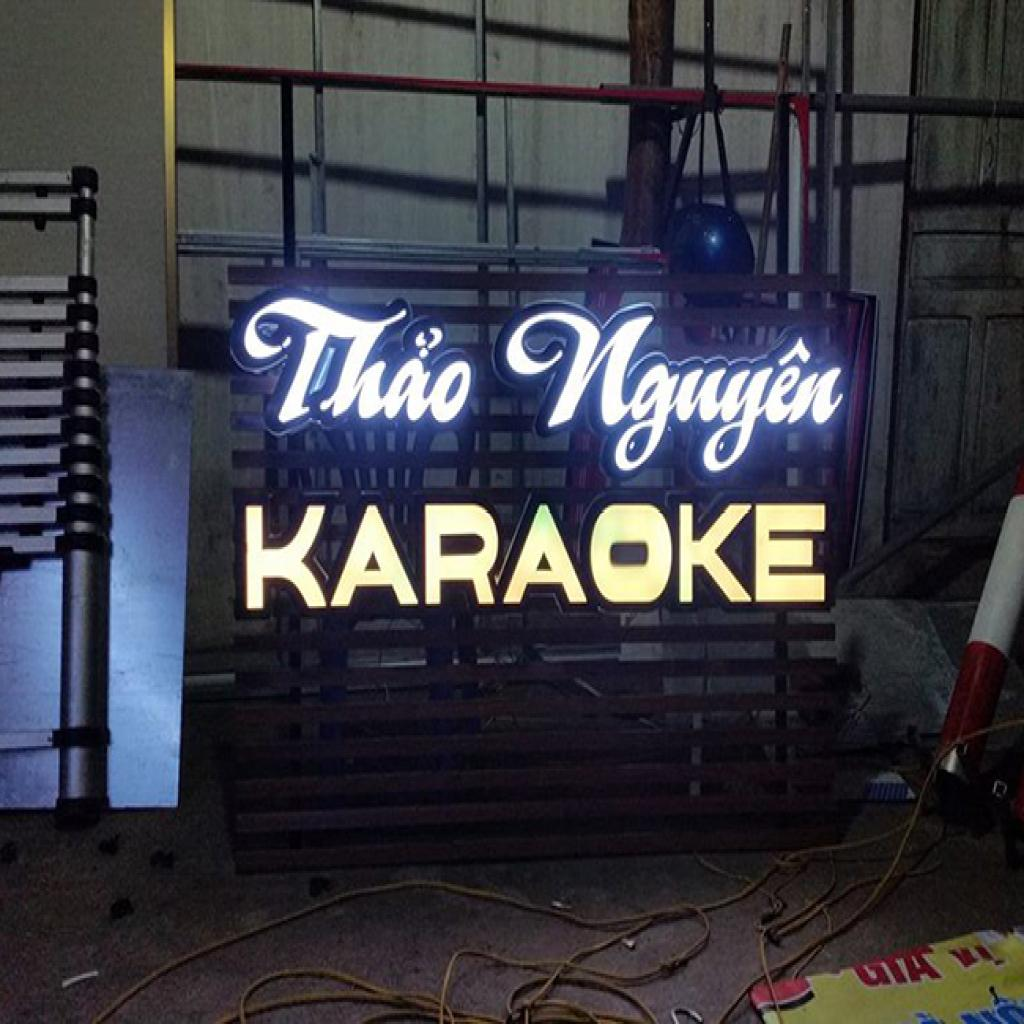text: (490, 291, 857, 484), (244, 503, 829, 613), (230, 282, 479, 442), (903, 950, 945, 984)
